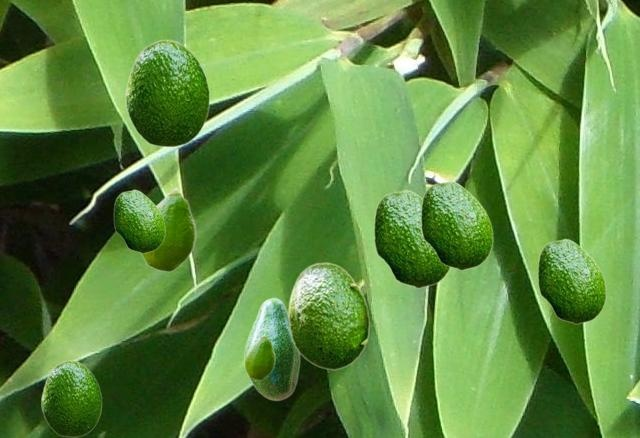avocado: (125, 39, 209, 146), (287, 262, 369, 369), (373, 189, 450, 287), (420, 180, 492, 269), (537, 238, 605, 323), (243, 297, 299, 400), (140, 186, 195, 271), (41, 360, 101, 436), (113, 189, 164, 252), (244, 333, 274, 379)
